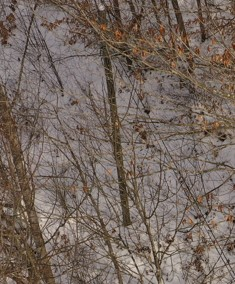pole: (83, 38, 144, 226)
